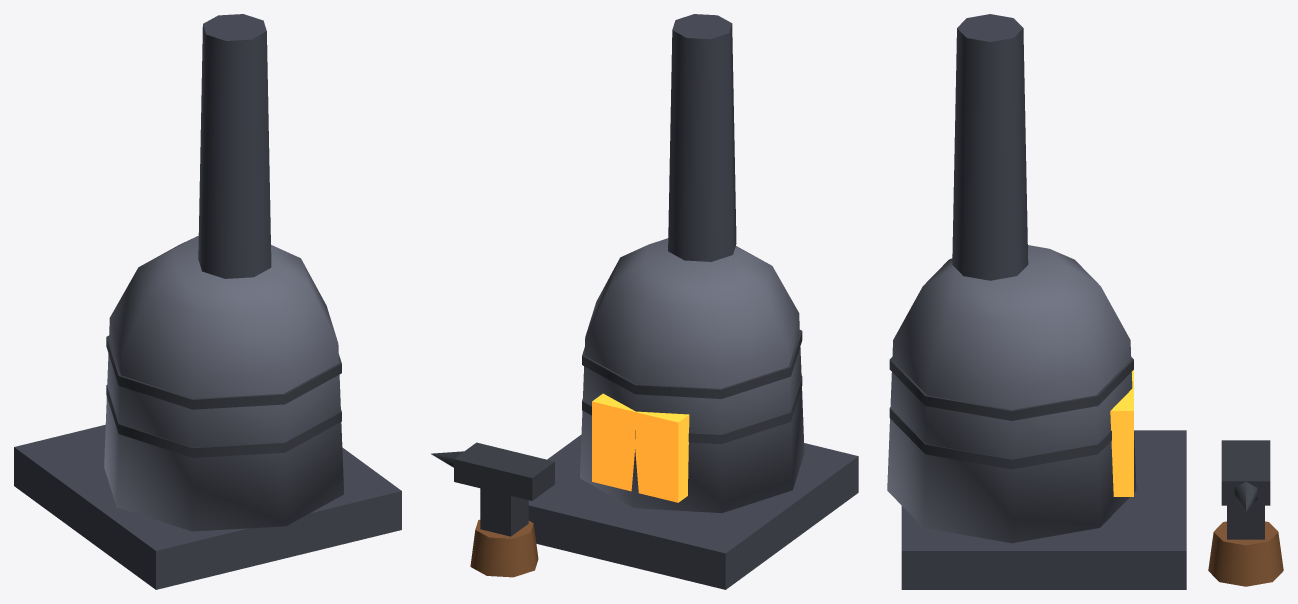
The model's file is forge4.glb.
3 renders of one model, left to right at view 1: azimuth 30°, elevation 25°; view 2: azimuth 150°, elevation 25°; view 3: azimuth 270°, elevation 25°, orthographic. The views are drawn at different scales.
Parts seen in each view (by area): view 1: Stone_6B6F7E, StoneDark_484B58, Metal_3C4048; view 2: Stone_6B6F7E, StoneDark_484B58, Metal_3C4048, Fire_FF8A2B, Wood_8A5A34; view 3: Stone_6B6F7E, StoneDark_484B58, Metal_3C4048, Wood_8A5A34, Fire_FF8A2B.
Part boxes in pixels (x1,y1,x2,y2): Stone_6B6F7E: [104, 236, 343, 531]; StoneDark_484B58: [14, 14, 401, 589]; Metal_3C4048: [106, 335, 341, 457]; Stone_6B6F7E: [580, 238, 804, 512]; StoneDark_484B58: [528, 14, 858, 589]; Metal_3C4048: [431, 330, 802, 536]; Fire_FF8A2B: [592, 393, 689, 502]; Wood_8A5A34: [470, 519, 538, 577]; Stone_6B6F7E: [887, 245, 1136, 543]; StoneDark_484B58: [901, 14, 1186, 589]; Metal_3C4048: [889, 357, 1270, 539]; Wood_8A5A34: [1208, 521, 1283, 586]; Fire_FF8A2B: [1110, 370, 1133, 496].
Bounding box in the file's own units: 10.96 × 18.32 × 13.12.
